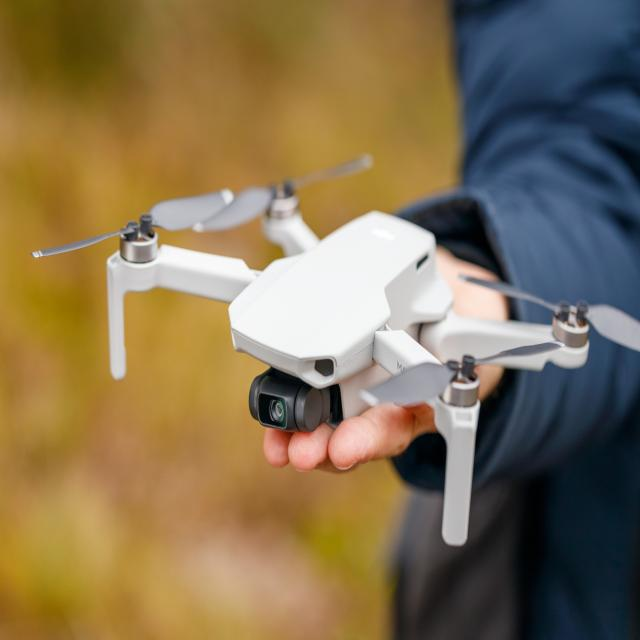drone: (33, 152, 619, 560)
